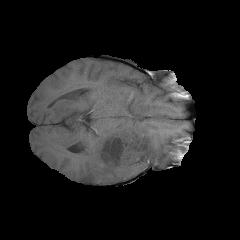glioma: (82, 118, 177, 184)
